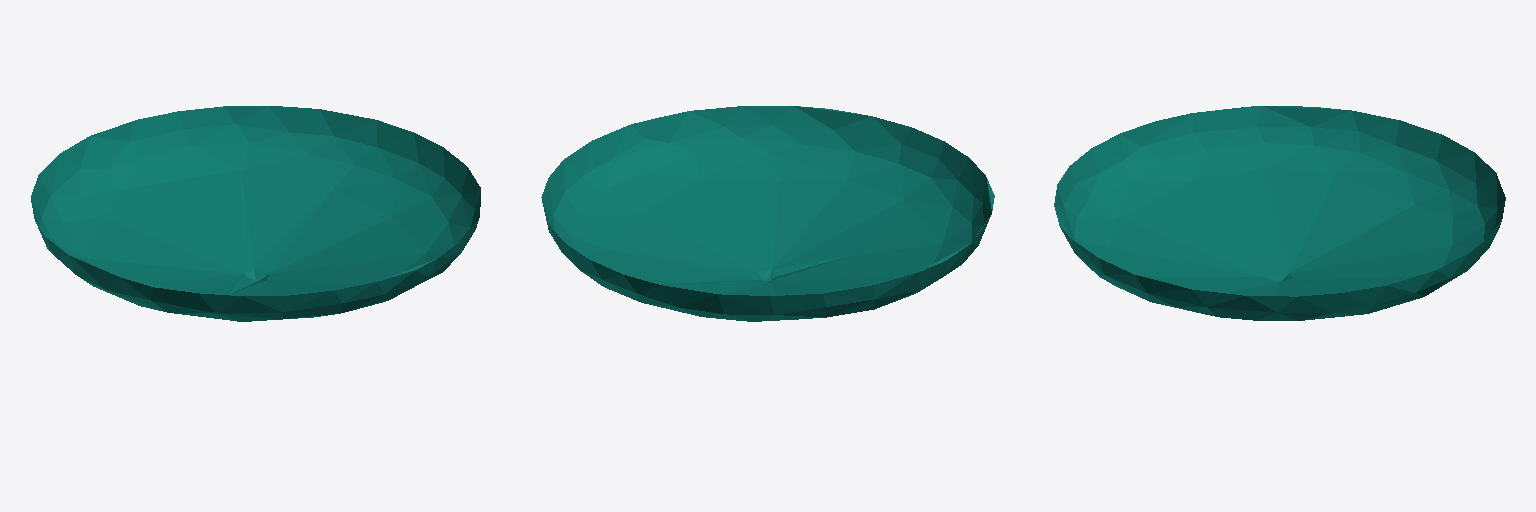
The model's file is Teller_Mesh.obj.
3 views of the same model, side by side, from view 1: azimuth 30°, elevation 25°; view 2: azimuth 150°, elevation 25°; view 3: azimuth 270°, elevation 25° (orthographic).
Parts seen in each view (by area): view 1: Circle_Circle.001; view 2: Circle_Circle.001; view 3: Circle_Circle.001.
Part boxes in pixels (bbox=[...]): Circle_Circle.001: bbox=[31, 106, 480, 321]; Circle_Circle.001: bbox=[541, 106, 994, 321]; Circle_Circle.001: bbox=[1054, 106, 1505, 320].
Bounding box in the file's own units: 1.48 × 0.4012 × 1.48.